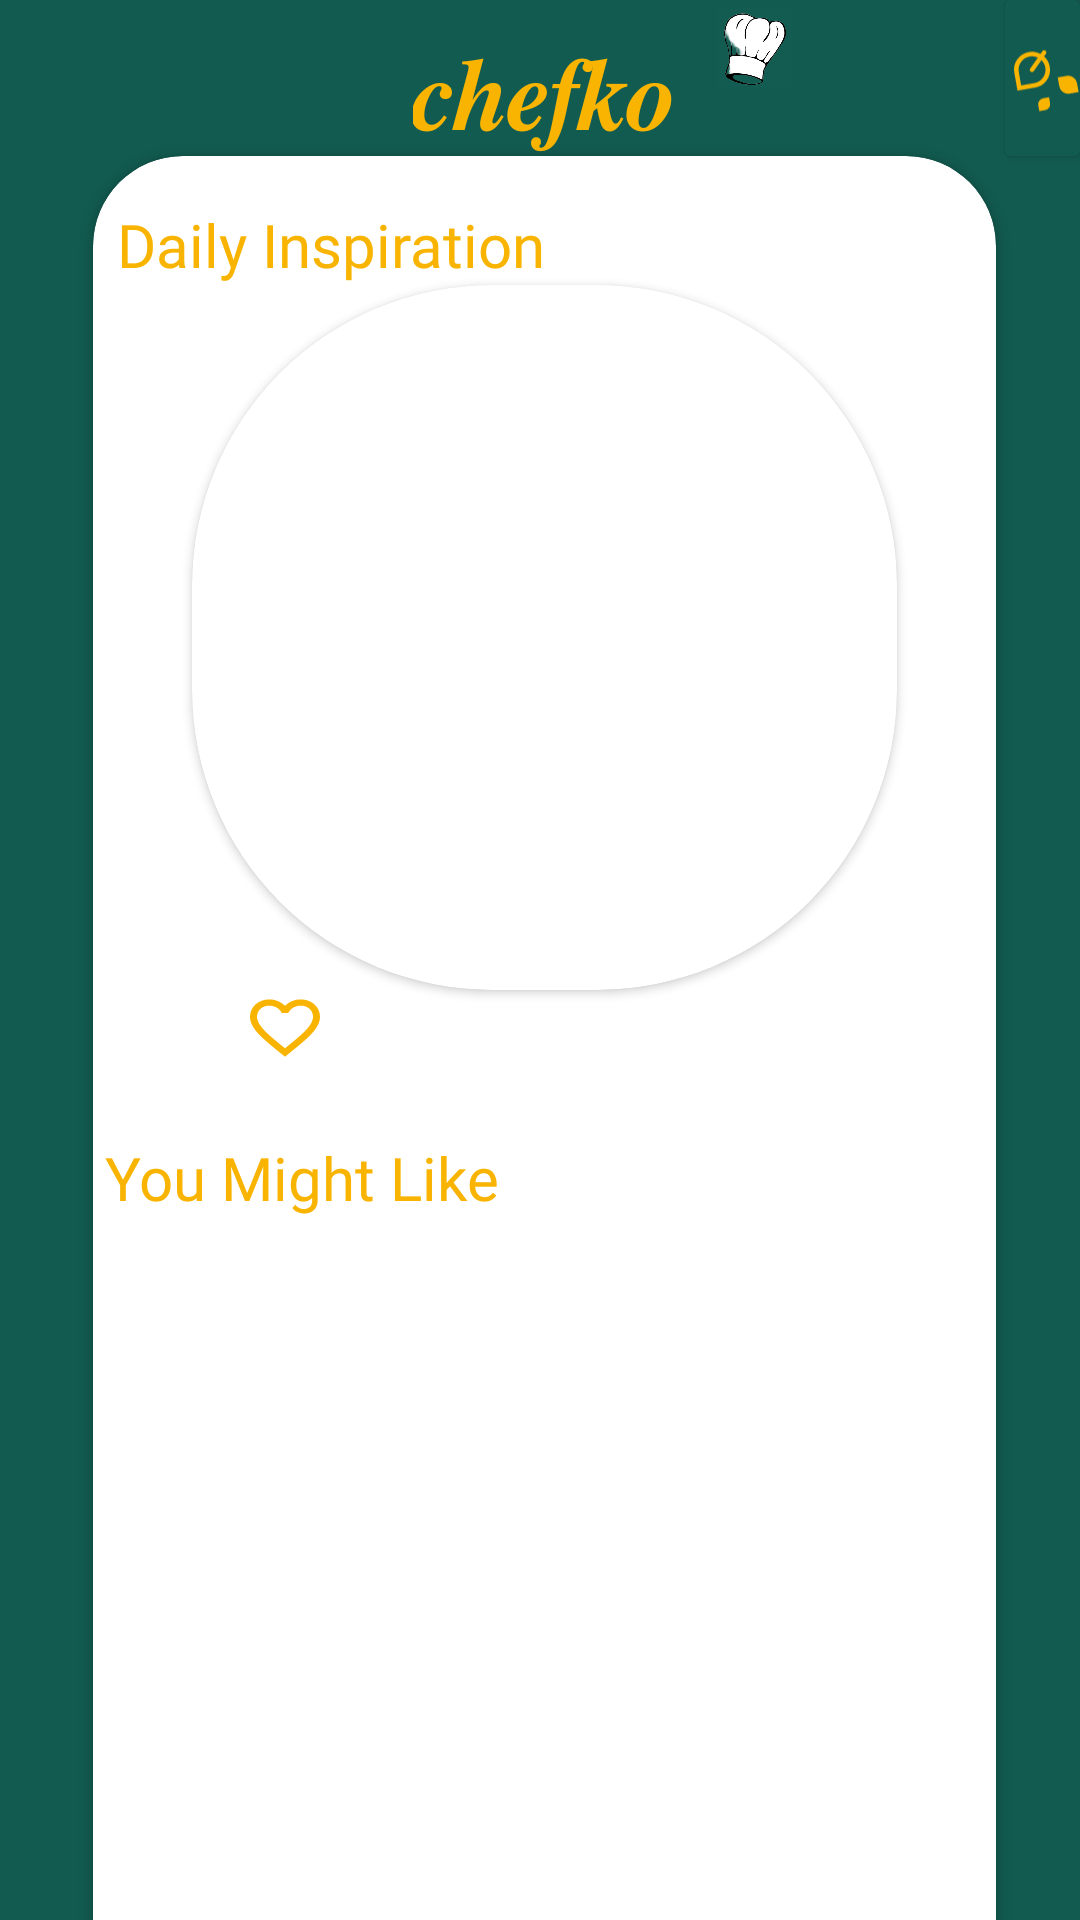

Icon click points for this 1080px×1920px phone screenshot, format (x,y):
energy savings leaf: (1046,81)
favorite border: (285,1028)
mychef: (755,49)
